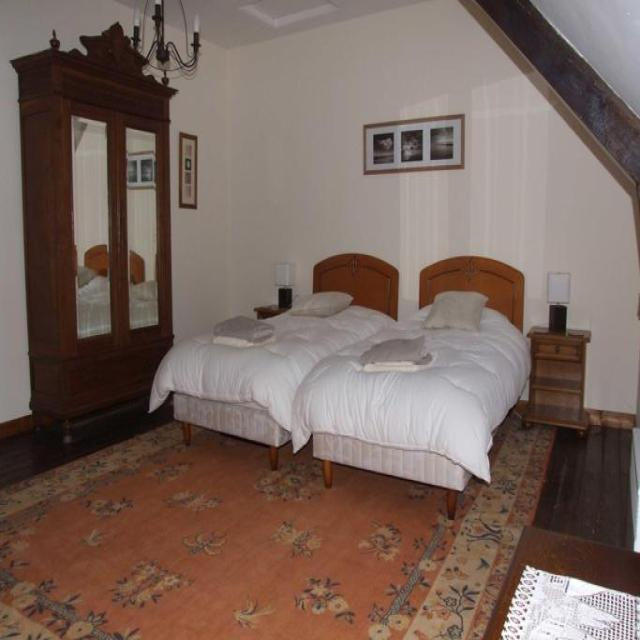bed: (290, 254, 532, 520), (147, 251, 399, 470)
carpet: (0, 402, 558, 638)
cupboard: (9, 20, 177, 442)
lamps: (130, 0, 201, 85)
pillows: (421, 290, 488, 331), (290, 290, 353, 318)
table: (482, 524, 639, 638)
table-lamp: (545, 270, 571, 332), (274, 260, 295, 309)
